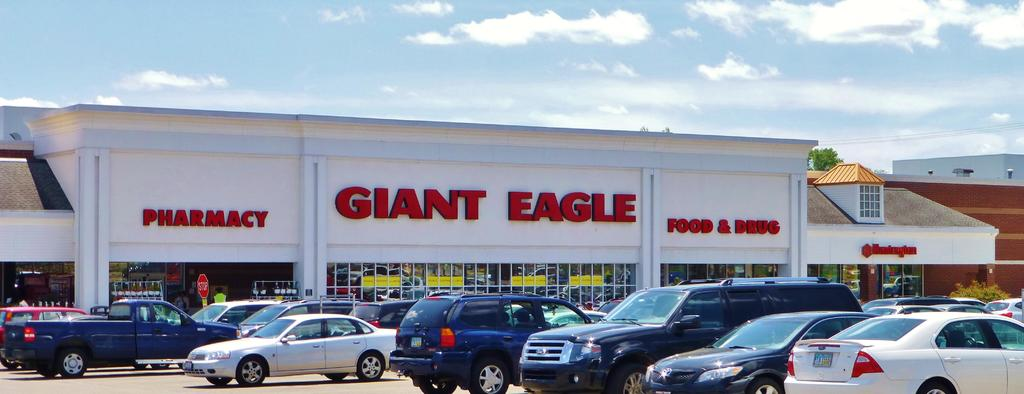Car: (0, 274, 1023, 393), (519, 274, 857, 393), (385, 288, 599, 393), (641, 312, 893, 393), (178, 307, 403, 392), (819, 307, 1018, 385), (233, 290, 378, 329)
